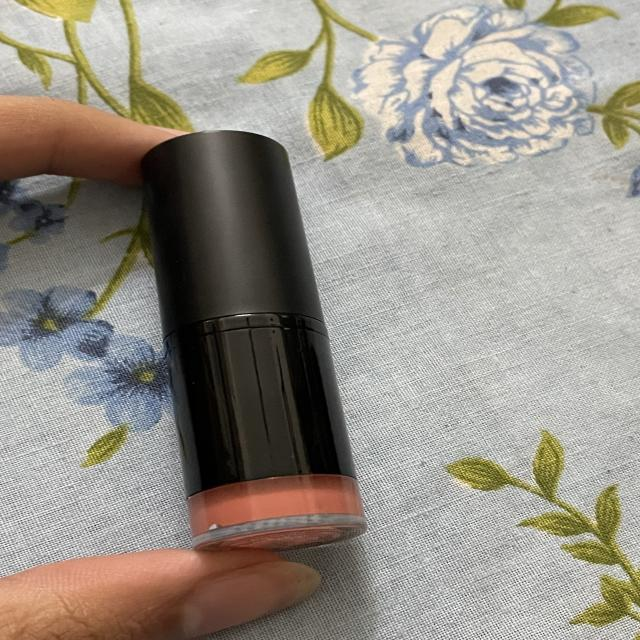lip stick: (111, 117, 391, 566)
